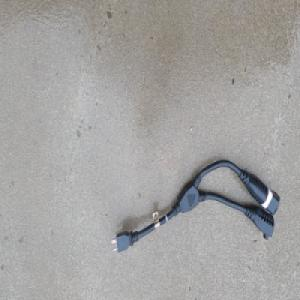Wire: (109, 157, 280, 253)
